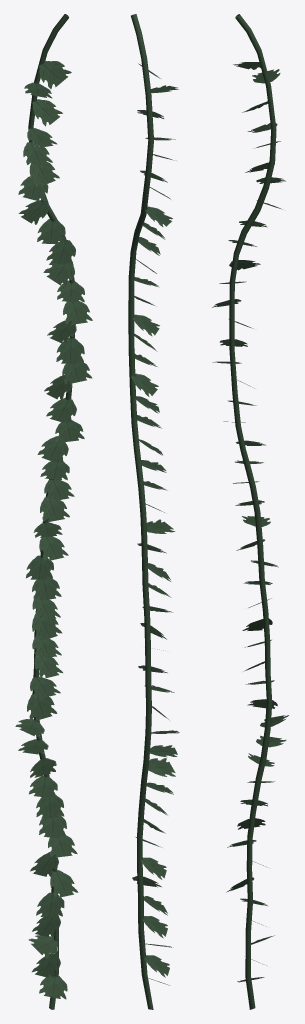
File: prp_vine2_v00.fbx
The picture shows the model from 3 angles, left to right: view 1: azimuth 90°, elevation 25°; view 2: azimuth 210°, elevation 25°; view 3: azimuth 270°, elevation 25°; orthographic projection.
Visible parts, largest first — view 1: Vine2, Leaf50, Leaf64, Leaf82, Leaf58, Leaf69, Leaf92, Leaf87, Leaf62, Leaf67, Leaf75, Leaf78 (+36 smaller); view 2: Vine2, Leaf85, Leaf66, Leaf90, Leaf63, Leaf95, Leaf93, Leaf57, Leaf73, Leaf84, Leaf92, Leaf59 (+3 smaller); view 3: Vine2.
Part boxes in pixels (x1,y1,x2,y2): Vine2: (28,14,74,1009); Leaf50: (39,61,71,88); Leaf64: (56,337,84,363); Leaf82: (27,694,57,720); Leaf58: (37,218,65,244); Leaf69: (37,436,68,464); Leaf92: (36,892,64,917); Leaf87: (36,795,64,818); Leaf62: (63,300,92,324); Leaf67: (46,397,76,423); Leaf75: (26,555,53,579); Leaf78: (32,614,62,640); Vine2: (128,14,153,1009); Leaf85: (148,758,175,776); Leaf66: (131,373,158,396); Leaf90: (141,857,166,879); Leaf63: (132,314,159,336); Leaf95: (144,955,169,977); Leaf93: (142,916,167,938); Leaf57: (145,206,172,226); Leaf73: (146,519,175,533); Leaf84: (149,745,177,757); Leaf92: (143,896,167,915); Leaf59: (138,237,160,255); Vine2: (229,14,276,1009).
Size of the model in its own units: 14.83 by 358 by 25.99.
1 material, 1 textured.
